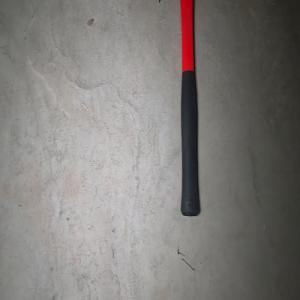Hammer: (156, 0, 214, 217)
